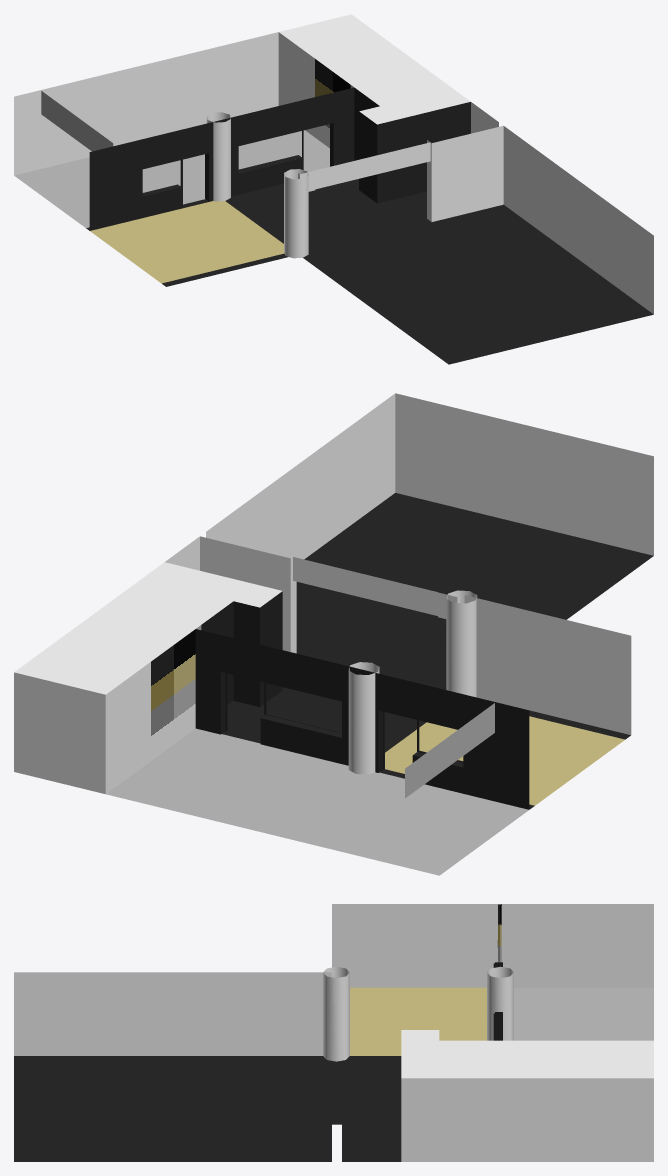
The model's file is model_02_lasercutter_area_and_colorpicker_texture.glb.
The picture shows the model from 3 angles, top to bottom: view 1: azimuth 30°, elevation 25°; view 2: azimuth 150°, elevation 25°; view 3: azimuth 270°, elevation 25°; orthographic projection. The views are drawn at different scales.
Parts seen in each view (by area): view 1: stg_fablab, stg_fl_ceiling_support_thin, stg_fl_wall_pillar, stg_fl_pillar; view 2: stg_fablab, stg_fl_ceiling_support_thin, stg_fl_wall_pillar, stg_fl_pillar; view 3: stg_fablab, stg_fl_wall_pillar, stg_fl_pillar.
Boxes of the visible parts, left/top/right/bottom form: stg_fablab: left=14, top=14, right=653, bottom=364; stg_fl_ceiling_support_thin: left=298, top=142, right=430, bottom=191; stg_fl_wall_pillar: left=284, top=169, right=308, bottom=258; stg_fl_pillar: left=206, top=112, right=230, bottom=201; stg_fablab: left=14, top=393, right=653, bottom=875; stg_fl_ceiling_support_thin: left=293, top=557, right=459, bottom=618; stg_fl_wall_pillar: left=446, top=590, right=477, bottom=697; stg_fl_pillar: left=348, top=662, right=379, bottom=774; stg_fablab: left=14, top=904, right=653, bottom=1161; stg_fl_wall_pillar: left=323, top=966, right=349, bottom=1061; stg_fl_pillar: left=487, top=966, right=513, bottom=1040.
Size of the model in its own units: 15.3 by 3.51 by 23.75.
4 materials, 4 textured.
